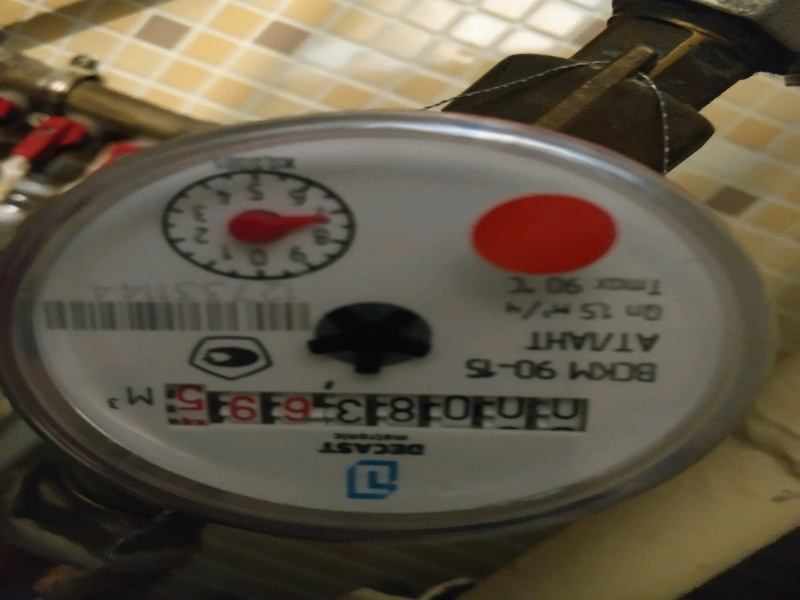dial: (171, 377, 603, 436)
